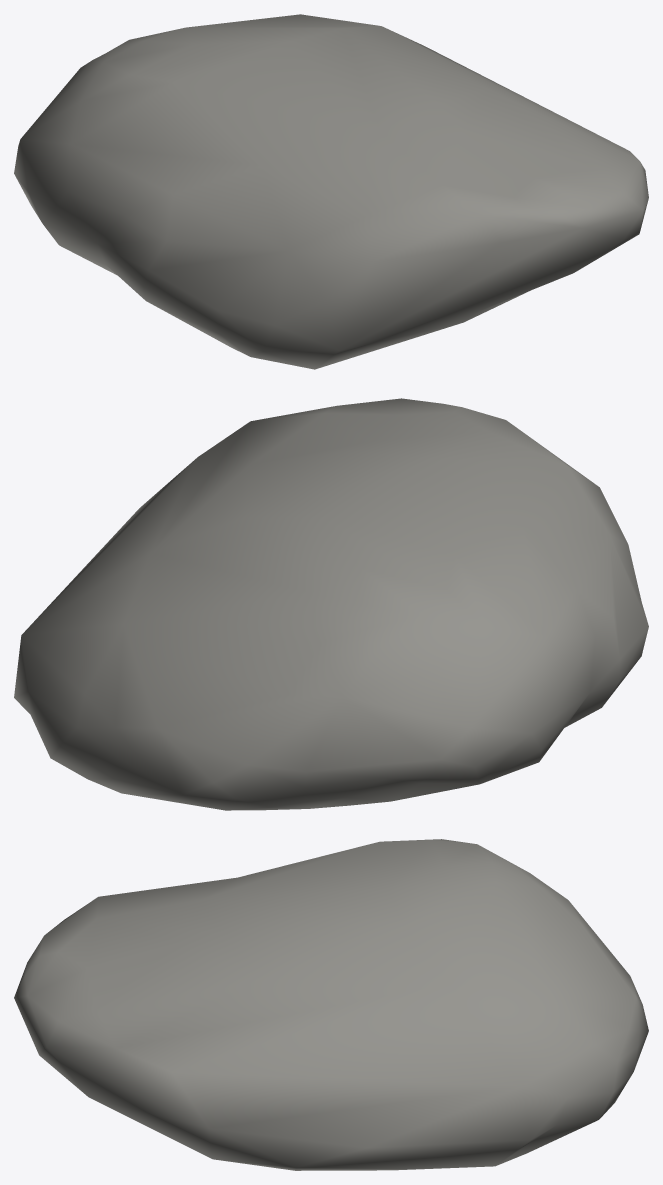
Rendered from Sm_Rocks9L.fbx.
The picture shows the model from 3 angles, top to bottom: view 1: azimuth 30°, elevation 25°; view 2: azimuth 150°, elevation 25°; view 3: azimuth 270°, elevation 25°; orthographic projection. The views are drawn at different scales.
Visible parts, largest first — view 1: Sm_Rocks9L; view 2: Sm_Rocks9L; view 3: Sm_Rocks9L.
Boxes of the visible parts, <box> form: Sm_Rocks9L: <box>14,14,648,369</box>; Sm_Rocks9L: <box>14,398,648,810</box>; Sm_Rocks9L: <box>14,839,648,1170</box>.
Size of the model in its own units: 87.04 by 35.45 by 103.
